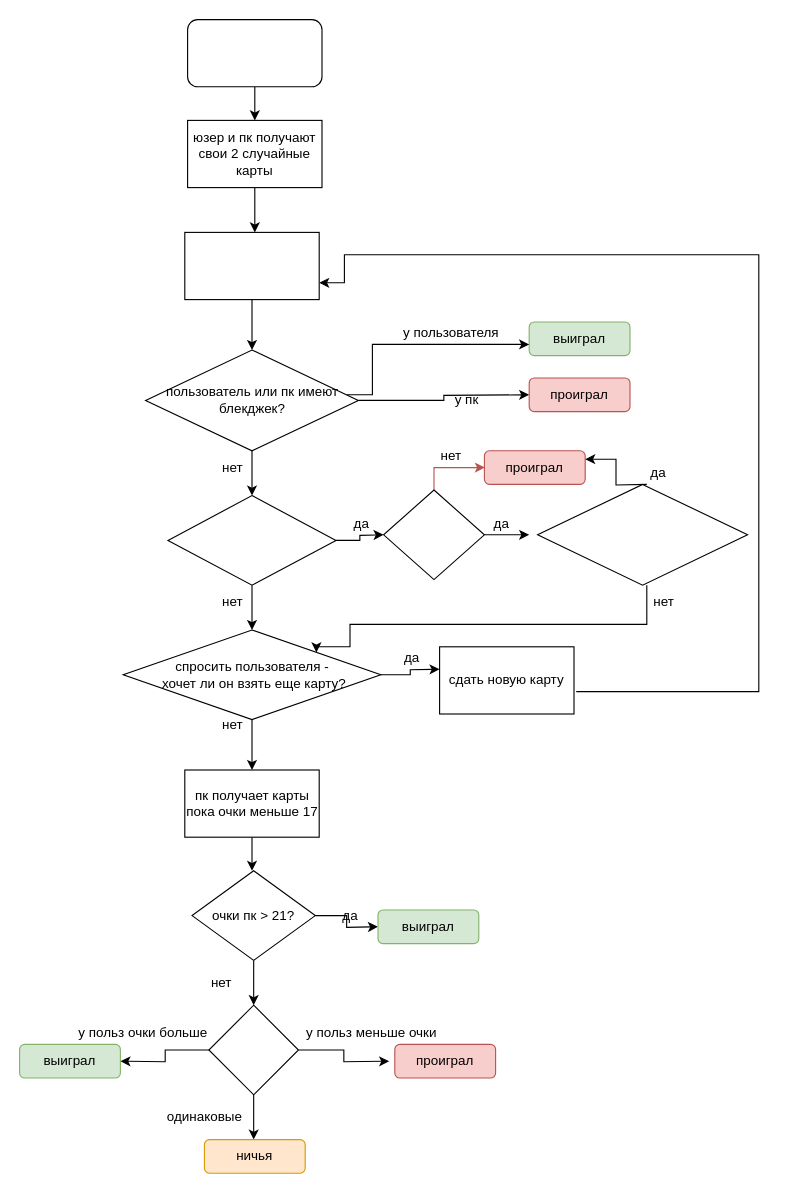
Some shapes in this 787 by 1193 pixel diagram are drawn without their labels. Each missing label, with the centre of its shape:
если туз посчитать как 1 вместо 11, все еще больше 21?: point 642,534
начало: point 254,52
очки пользователя больше 21?: point 251,539
подсчитать очки игроков: point 251,265
сравнить очки польз и пк: point 253,1049
у него есть туз?: point 433,534
